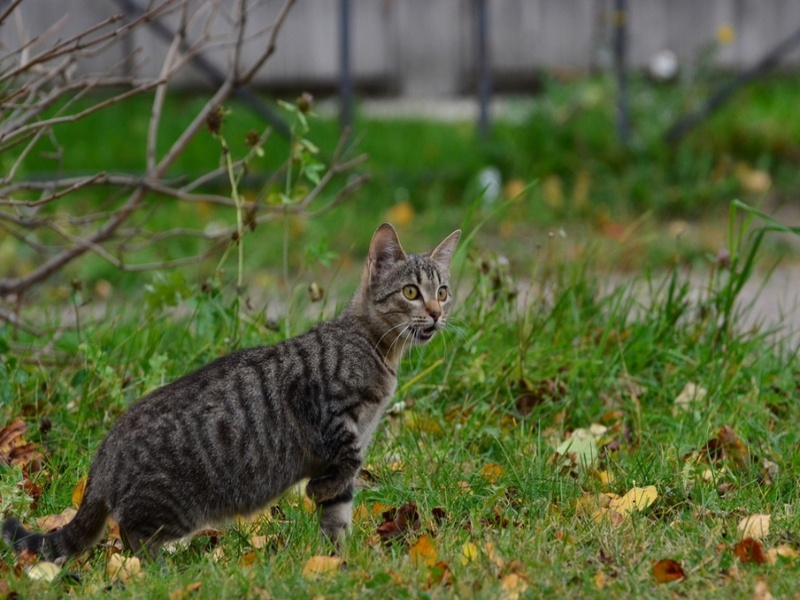cat: (1, 220, 468, 575)
